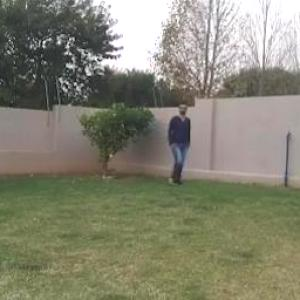follow: (170, 105, 190, 183)
